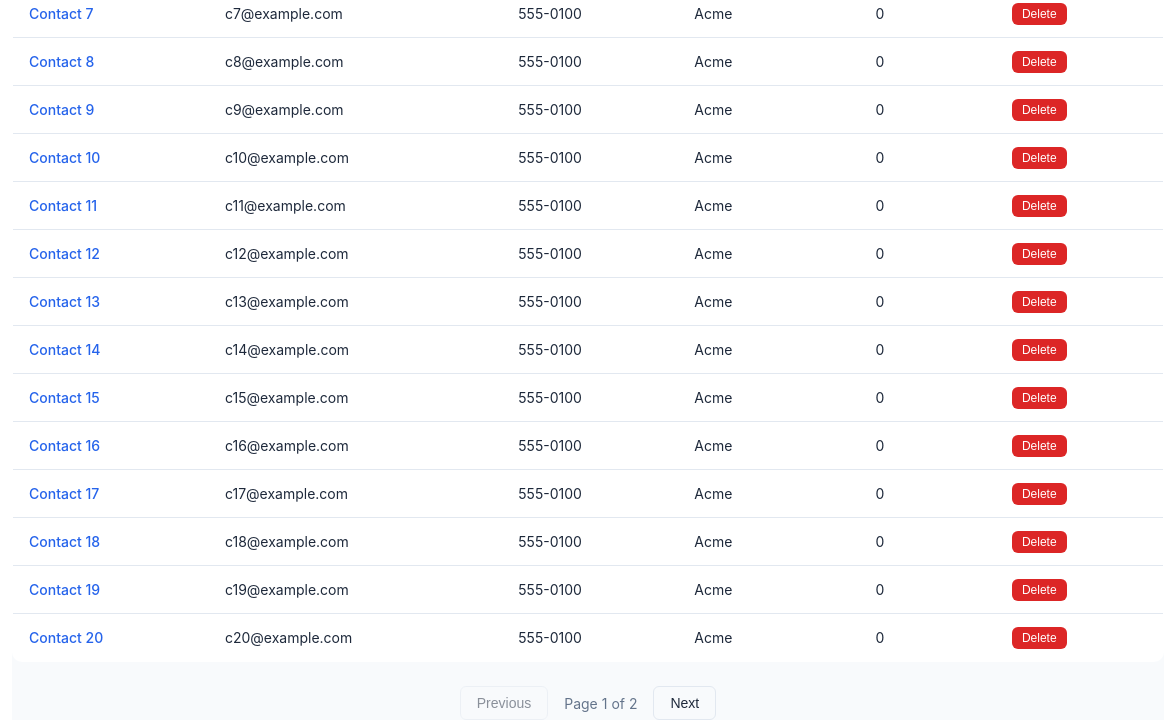
ContactList delete › navigates back when deleting the last contact on last page
The image size is (1176, 720).
(page scrolled)
Check: the text "Page 1 of 2" is shown, box [564,692,637,714]
Click the button "Next": (685, 703) [653,686,716,719]
(page scrolled)
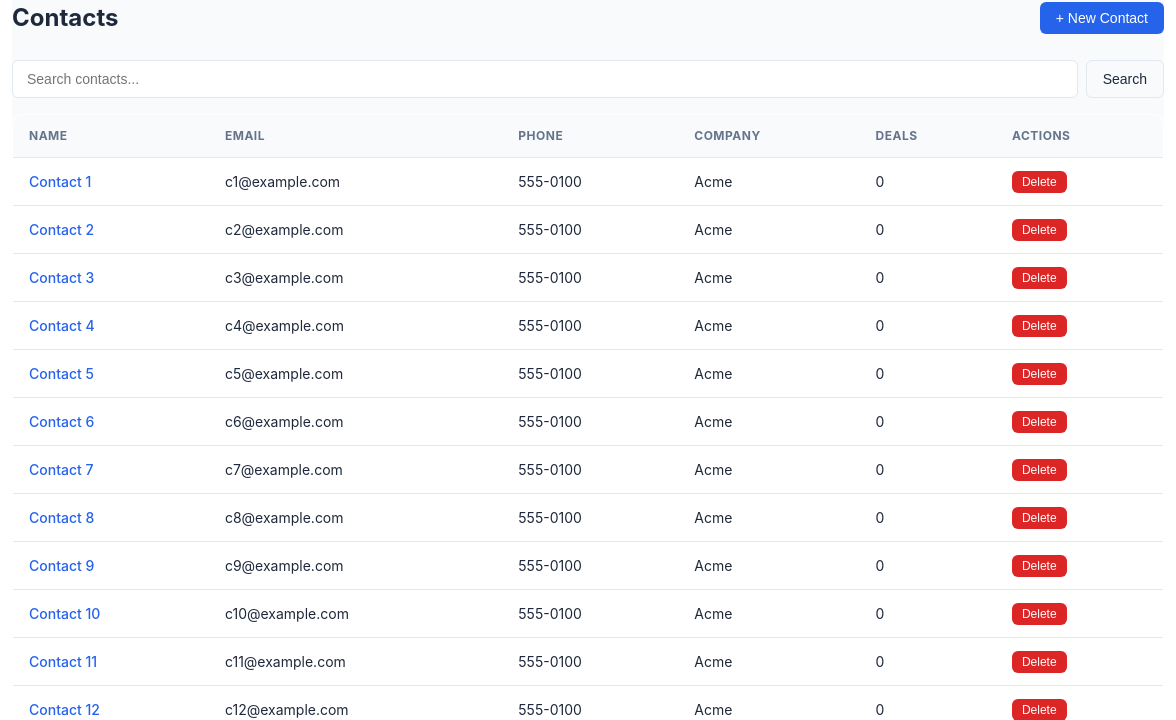
Click the button "Delete" in the row of "c1@example.com": (1039, 182) [1012,171,1067,193]
(page scrolled)
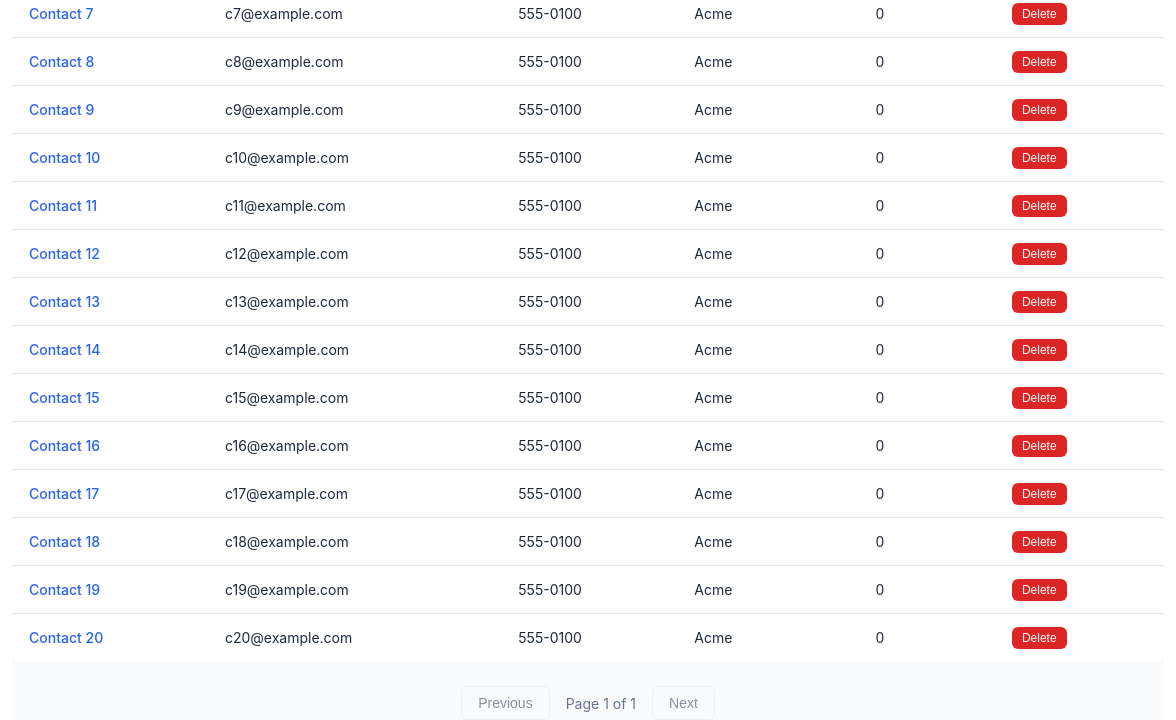
Check: the text "Page 1 of 1" is shown, box [566,692,636,714]
